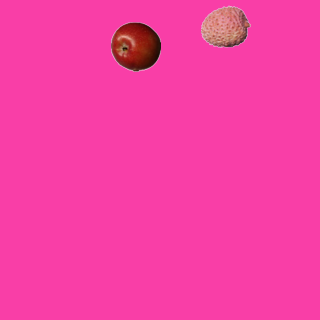Apple Braeburn: (110, 21, 160, 71)
Lychee: (200, 1, 250, 51)
